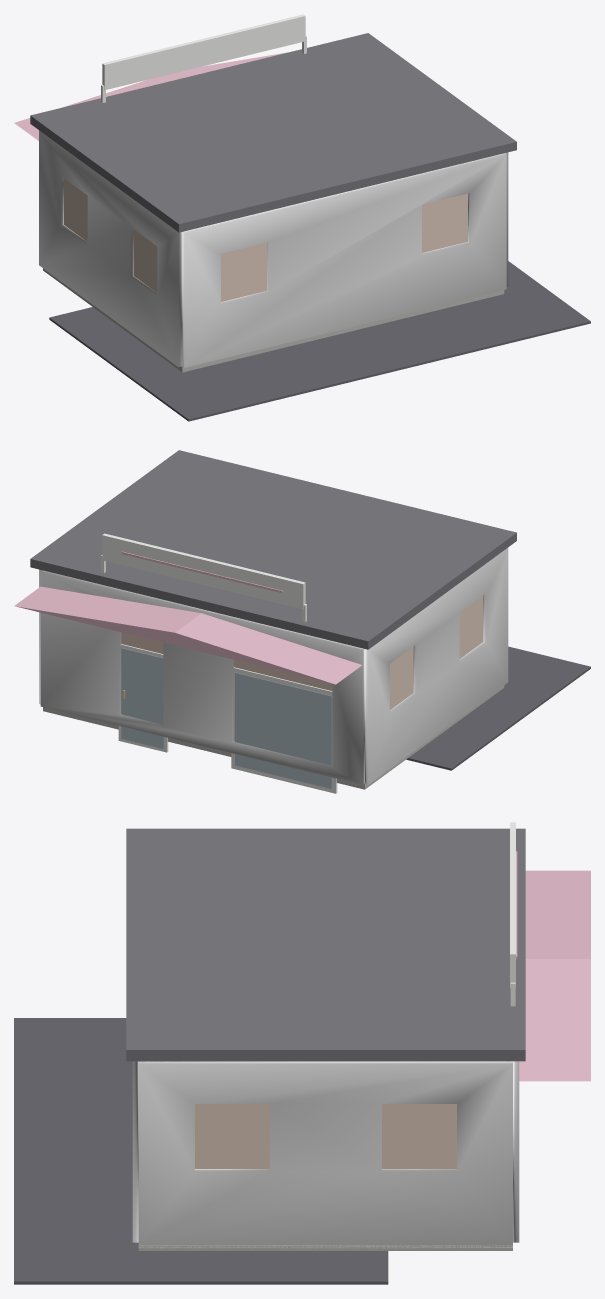
The model's file is salon.glb.
3 renders of one model, top to bottom at view 1: azimuth 30°, elevation 25°; view 2: azimuth 150°, elevation 25°; view 3: azimuth 270°, elevation 25°, orthographic. The views are drawn at different scales.
Parts seen in each view (by area): view 1: roof, back_wall, sidewalk, left_wall, body, sign_board, foundation, awning; view 2: roof, front_wall, left_wall, awning, storefront_frame, storefront_glass, sidewalk, sign_board, door_frame, body, door_glass, foundation (+1 smaller); view 3: roof, right_wall, sidewalk, awning, body, foundation, front_wall, back_wall, lower, sign_board.
Part boxes in pixels (left/top/right/bottom): roof: left=30, top=33, right=516, bottom=232; back_wall: left=182, top=153, right=506, bottom=367; sidewalk: left=49, top=261, right=590, bottom=421; left_wall: left=39, top=130, right=182, bottom=366; body: left=64, top=178, right=467, bottom=301; sign_board: left=102, top=14, right=305, bottom=90; foundation: left=43, top=268, right=504, bottom=372; awning: left=14, top=52, right=287, bottom=140; roof: left=30, top=450, right=516, bottom=649; front_wall: left=40, top=570, right=364, bottom=784; left_wall: left=365, top=548, right=508, bottom=784; awning: left=14, top=586, right=362, bottom=684; storefront_frame: left=231, top=667, right=337, bottom=793; storefront_glass: left=235, top=672, right=331, bottom=788; sidewalk: left=406, top=646, right=590, bottom=770; sign_board: left=102, top=533, right=305, bottom=609; door_frame: left=118, top=644, right=168, bottom=752; body: left=121, top=596, right=483, bottom=709; door_glass: left=121, top=648, right=163, bottom=748; foundation: left=43, top=685, right=504, bottom=789; roof: left=126, top=828, right=525, bottom=1061; right_wall: left=138, top=1061, right=512, bottom=1245; sidewalk: left=14, top=1018, right=388, bottom=1284; awning: left=519, top=870, right=590, bottom=1081; body: left=142, top=1061, right=456, bottom=1168; foundation: left=138, top=1245, right=512, bottom=1250; front_wall: left=508, top=1061, right=519, bottom=1242; back_wall: left=132, top=1061, right=138, bottom=1242; lower: left=138, top=1245, right=512, bottom=1248; sign_board: left=510, top=822, right=515, bottom=988.
Bounding box in the file's own units: 10 × 4.8 × 9.25.
